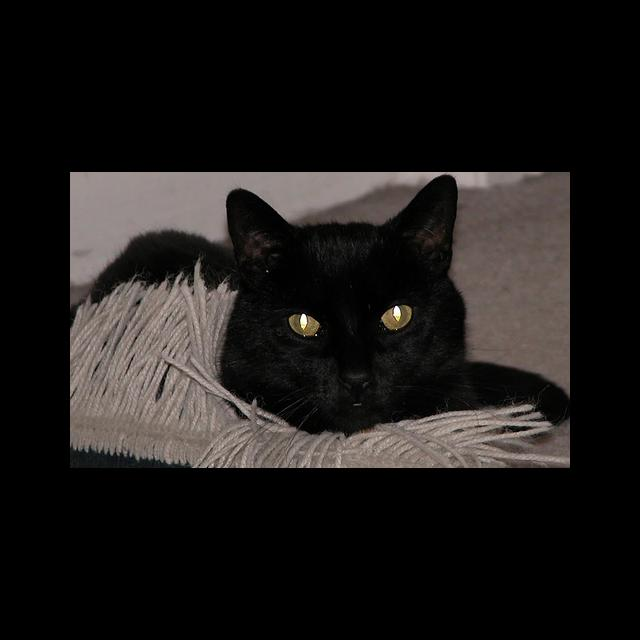animals: (233, 175, 447, 396)
